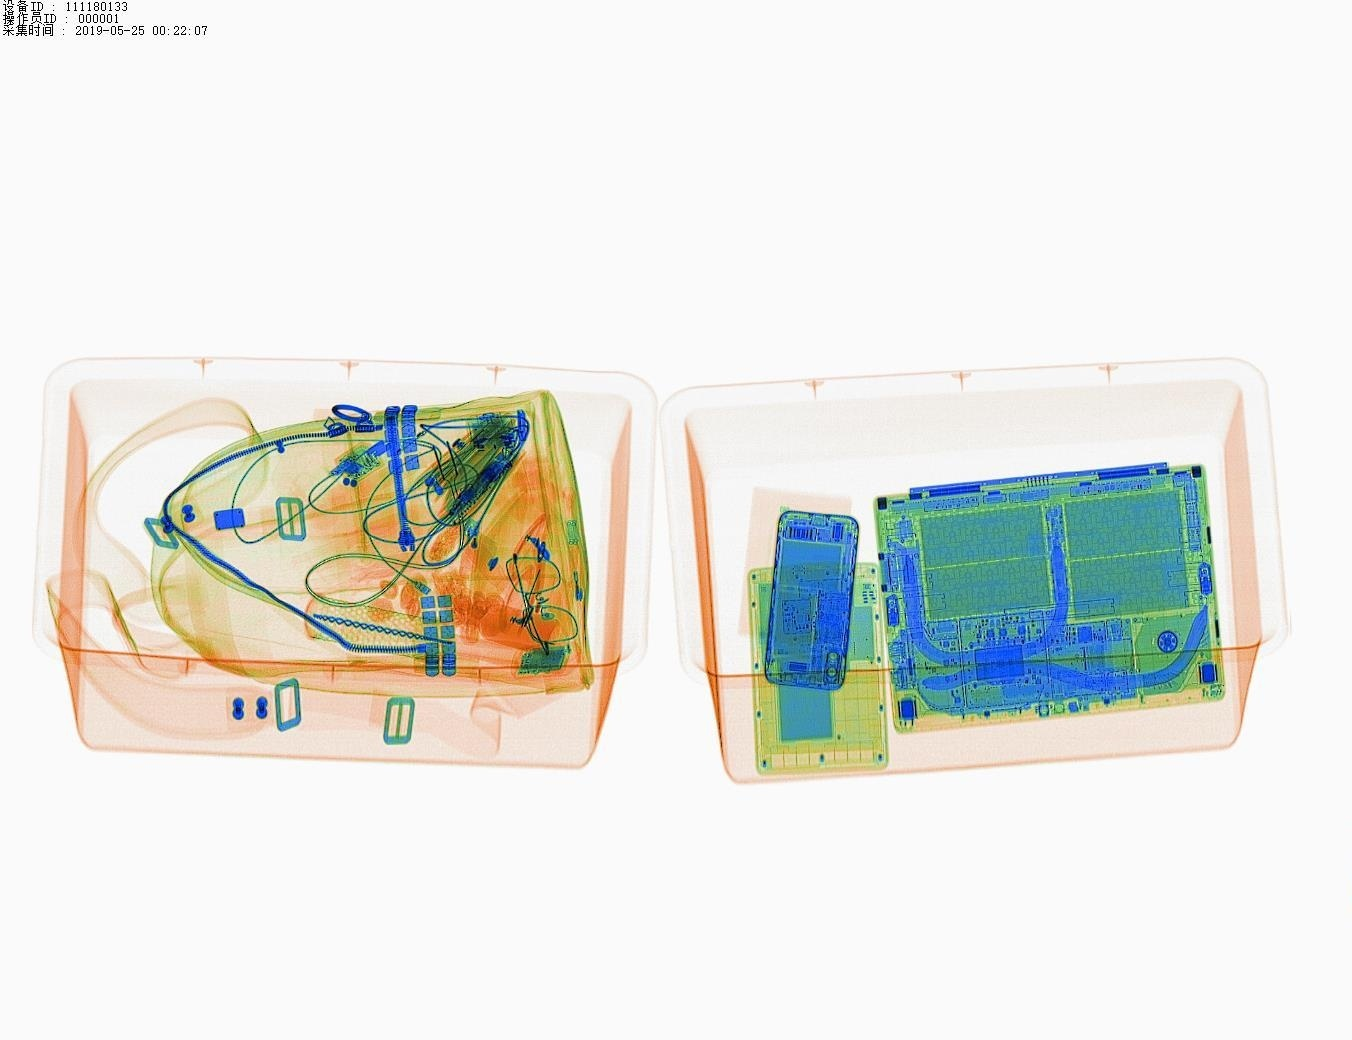NonmetallicFire: (451, 517, 495, 592)
